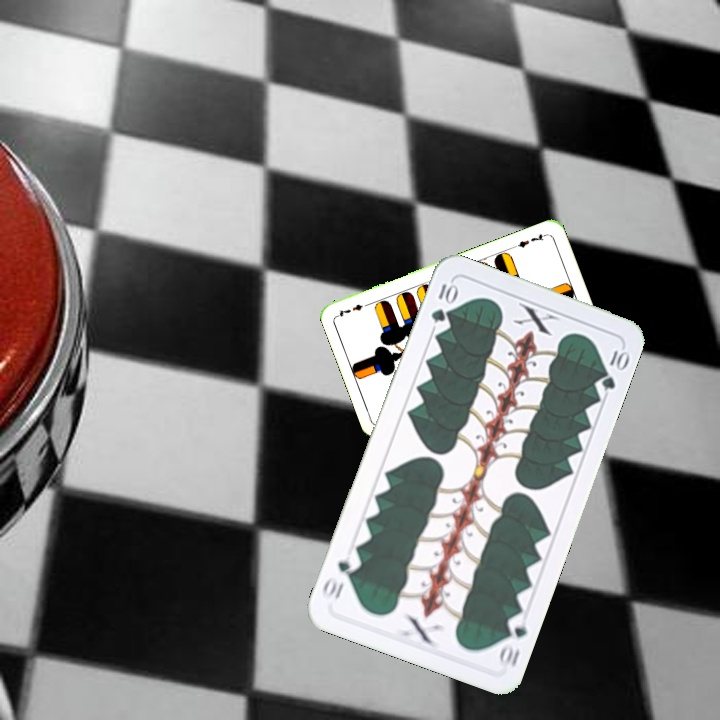E7: (510, 229, 549, 251)
G10: (495, 610, 530, 671), (427, 280, 459, 325)
